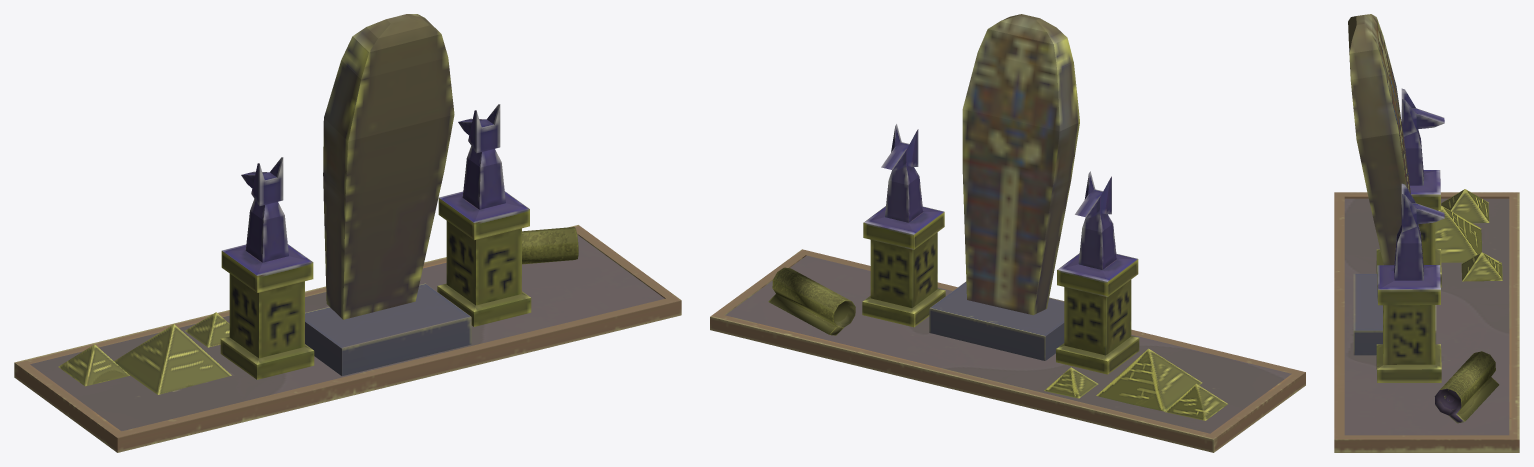
The model's file is egipt.glb.
3 renders of one model, left to right at view 1: azimuth 30°, elevation 25°; view 2: azimuth 150°, elevation 25°; view 3: azimuth 270°, elevation 25°, orthographic. The views are drawn at different scales.
Parts seen in each view (by area): view 1: egipt_1.001; view 2: egipt_1.001; view 3: egipt_1.001.
Boxes of the visible parts, bbox=[...] form: egipt_1.001: bbox=[14, 14, 681, 452]; egipt_1.001: bbox=[710, 14, 1305, 452]; egipt_1.001: bbox=[1334, 14, 1519, 452].
Bounding box in the file's own units: 6.31 × 3.77 × 2.
Materials: 2 (2 with a texture image).
